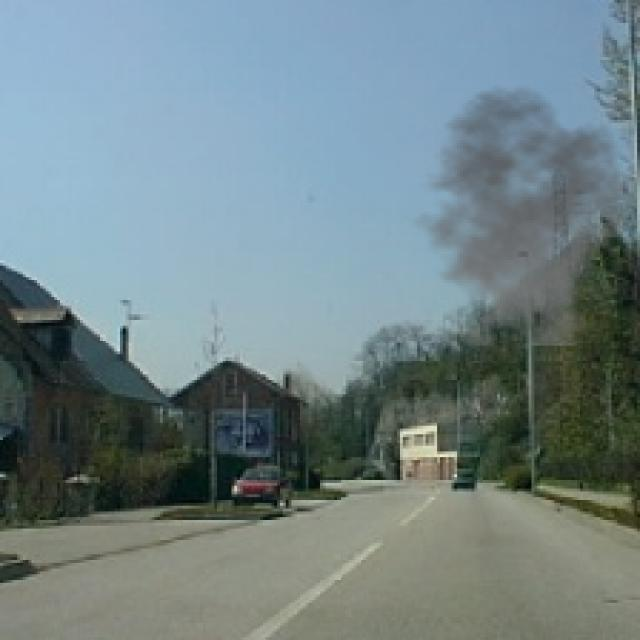Smoke: (400, 85, 637, 348)
